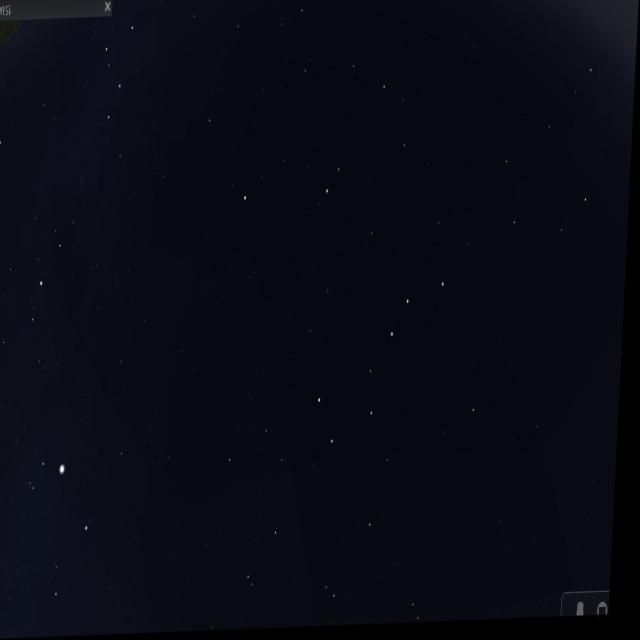cassiopeia: (81, 8, 155, 200)
ursa_major: (319, 272, 452, 462)
